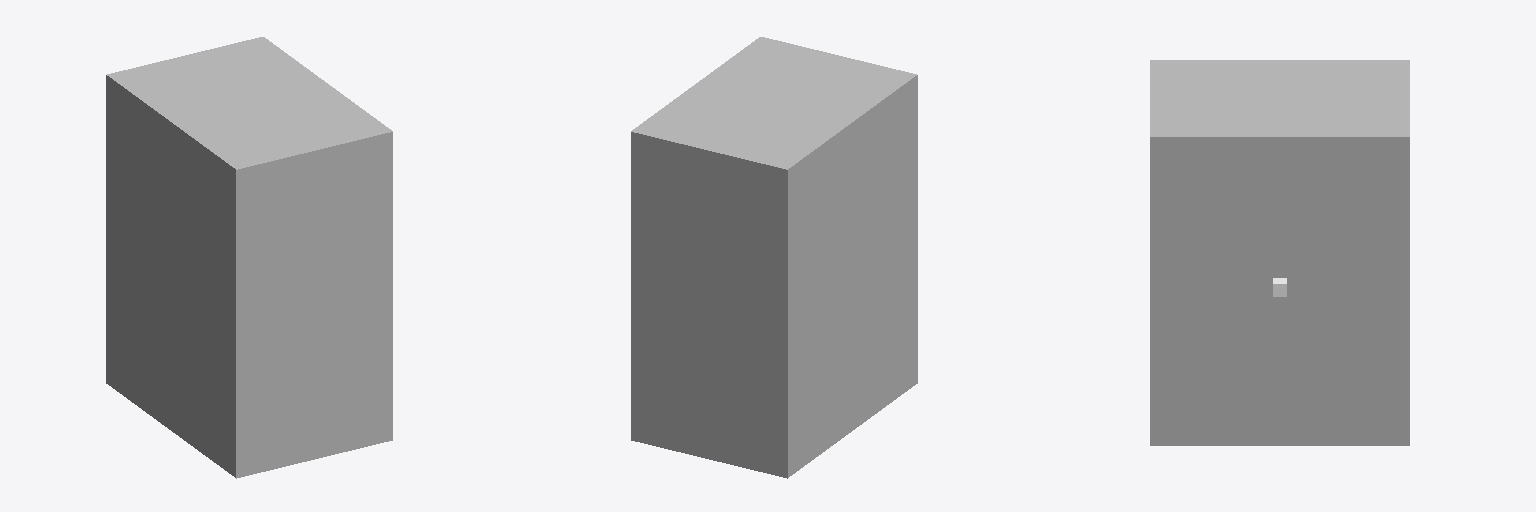
The picture shows the model from 3 angles: view 1: azimuth 30°, elevation 25°; view 2: azimuth 150°, elevation 25°; view 3: azimuth 270°, elevation 25°; orthographic projection.
Parts seen in each view (by area): view 1: armario_Cube.007; view 2: armario_Cube.007; view 3: armario_Cube.007.
Part boxes in pixels (bbox=[...]): armario_Cube.007: bbox=[106, 37, 392, 478]; armario_Cube.007: bbox=[631, 37, 917, 478]; armario_Cube.007: bbox=[1150, 60, 1409, 445].
Size of the model in its own units: 0.8625 by 1.5 by 1.15.
Materials: 2 (1 with a texture image).